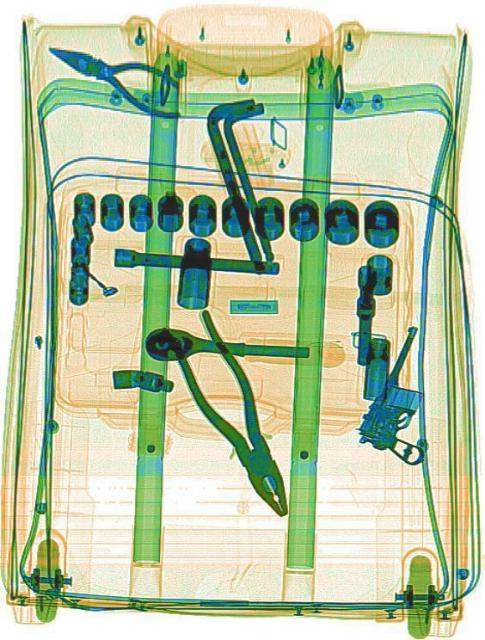Gun: (350, 323, 467, 479)
Pliers: (161, 300, 304, 530), (41, 24, 188, 126)
